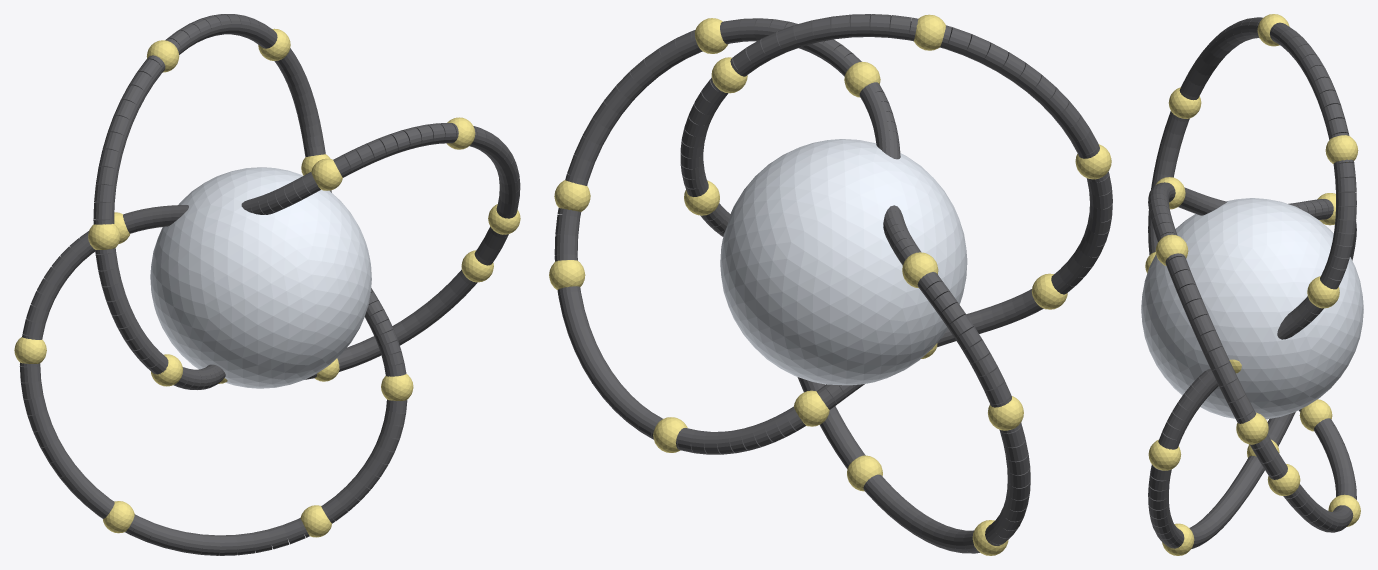
File: trefoil_knot_ultra_sacred_chic.glb
3 renders of one model, left to right at view 1: azimuth 30°, elevation 25°; view 2: azimuth 150°, elevation 25°; view 3: azimuth 270°, elevation 25°, orthographic. The views are drawn at different scales.
Visible parts, largest first — view 1: TrefoilKnot, Core, KnotNodes; view 2: TrefoilKnot, Core, KnotNodes; view 3: Core, TrefoilKnot, KnotNodes.
Boxes of the visible parts, x1=… form: TrefoilKnot: x1=19, y1=14, x2=520, y2=555; Core: x1=150, y1=167, x2=371, y2=388; KnotNodes: x1=14, y1=28, x2=520, y2=537; TrefoilKnot: x1=554, y1=14, x2=1112, y2=553; Core: x1=720, y1=139, x2=967, y2=385; KnotNodes: x1=549, y1=14, x2=1111, y2=555; Core: x1=1141, y1=198, x2=1363, y2=419; TrefoilKnot: x1=1148, y1=17, x2=1356, y2=548; KnotNodes: x1=1145, y1=14, x2=1360, y2=555.
Bounding box in the file's own units: 3.61 × 3.72 × 1.5.
